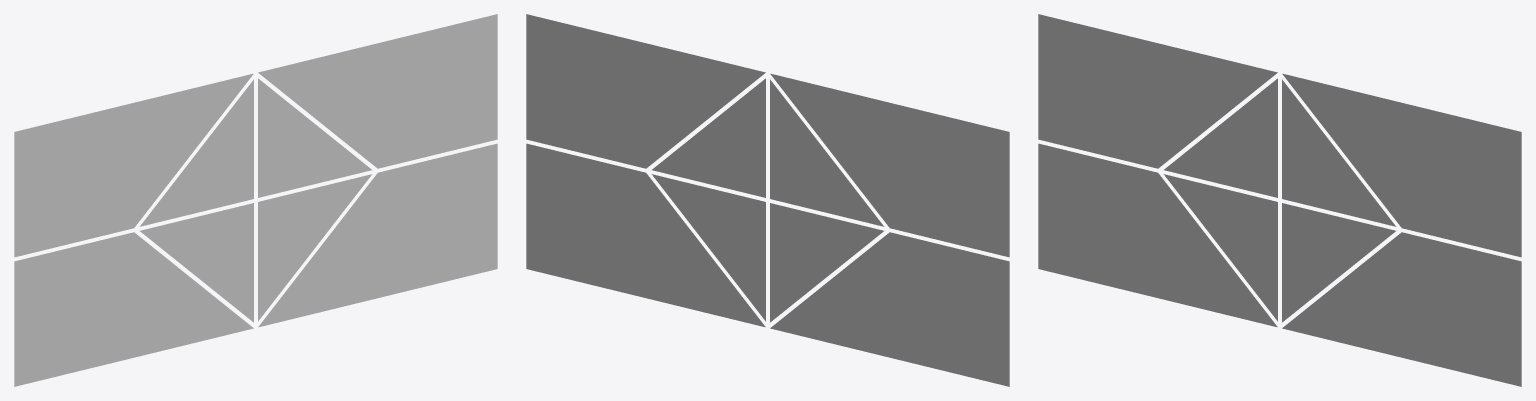
File: vernazzasmall.gltf
The picture shows the model from 3 angles, left to right: view 1: azimuth 30°, elevation 25°; view 2: azimuth 150°, elevation 25°; view 3: azimuth 330°, elevation 25°; orthographic projection.
Visible parts, largest first — view 1: vernazasmall; view 2: vernazasmall; view 3: vernazasmall.
Boxes of the visible parts, x1,y1,x2,y2 form: vernazasmall: (14,14,497,386); vernazasmall: (526,14,1009,386); vernazasmall: (1038,14,1521,386).
Bounding box in the file's own units: 205 × 103 × 2.33e-05.
Materials: 8 (8 with a texture image).
